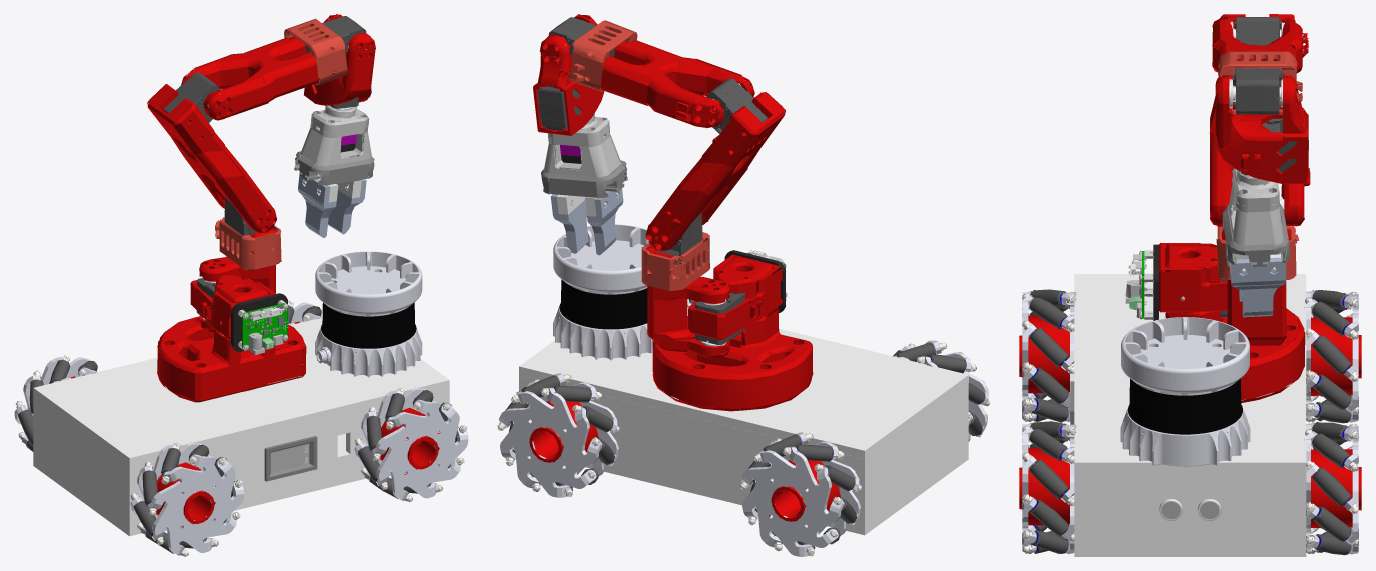
The model's file is fig1_robot.glb.
3 renders of one model, left to right at view 1: azimuth 30°, elevation 25°; view 2: azimuth 150°, elevation 25°; view 3: azimuth 270°, elevation 25°, orthographic. The views are drawn at different scales.
Parts seen in each view (by area): view 1: top_arm, base_link, front_scan, wheel_rf, wheel_rb, wheel_lb, wheel_lf; view 2: top_arm, base_link, wheel_lf, wheel_lb, front_scan, wheel_rb; view 3: base_link, top_arm, front_scan, wheel_rf, wheel_lf, wheel_lb, wheel_rb.
Part boxes in pixels (x1,y1,x2,y2): top_arm: (147,14,375,402); base_link: (33,317,449,536); front_scan: (315,251,422,377); wheel_rf: (354,387,468,502); wheel_rb: (130,442,244,556); wheel_lb: (14,355,97,451); wheel_lf: (288,301,321,325); top_arm: (533,14,813,411); base_link: (519,307,968,535); wheel_lf: (497,373,619,497); wheel_lb: (739,432,861,556); front_scan: (553,224,653,360); wheel_rb: (893,340,990,441); base_link: (1070,274,1306,556); top_arm: (1125,14,1310,402); front_scan: (1120,317,1250,466); wheel_rf: (1019,421,1076,554); wheel_lf: (1304,422,1361,555); wheel_lb: (1304,290,1361,423); wheel_rb: (1019,289,1076,422).
Size of the model in its own units: 0.3113 by 0.3605 by 0.23.
